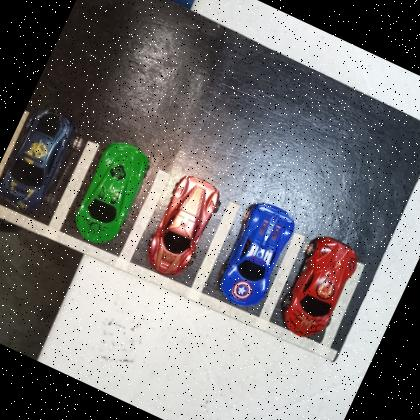Car: (64, 134, 157, 255), (208, 195, 301, 316), (272, 230, 366, 348), (136, 169, 228, 286), (0, 100, 82, 219)
